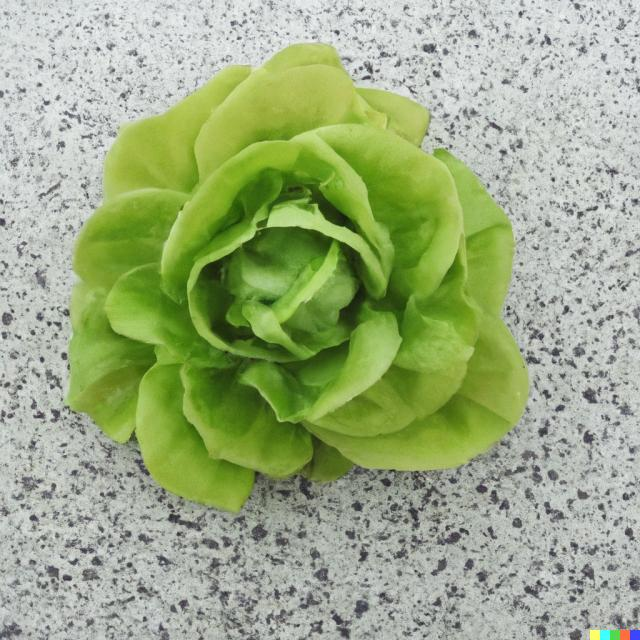-N: (62, 32, 534, 519)
